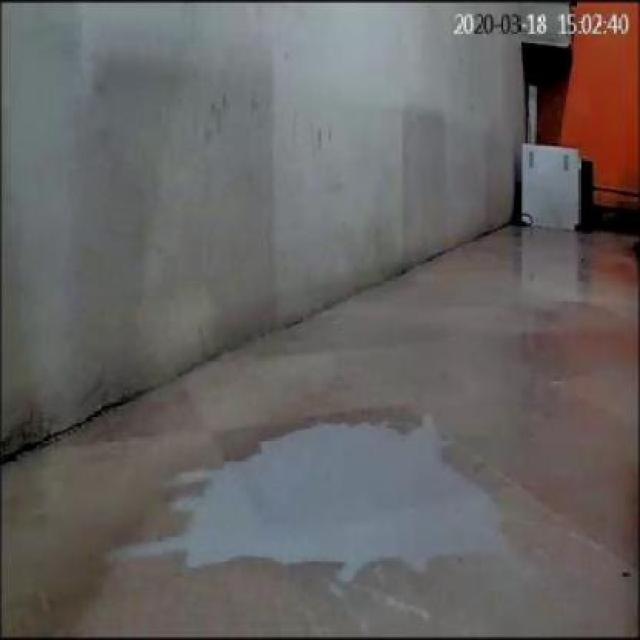spillage: (115, 424, 500, 569)
